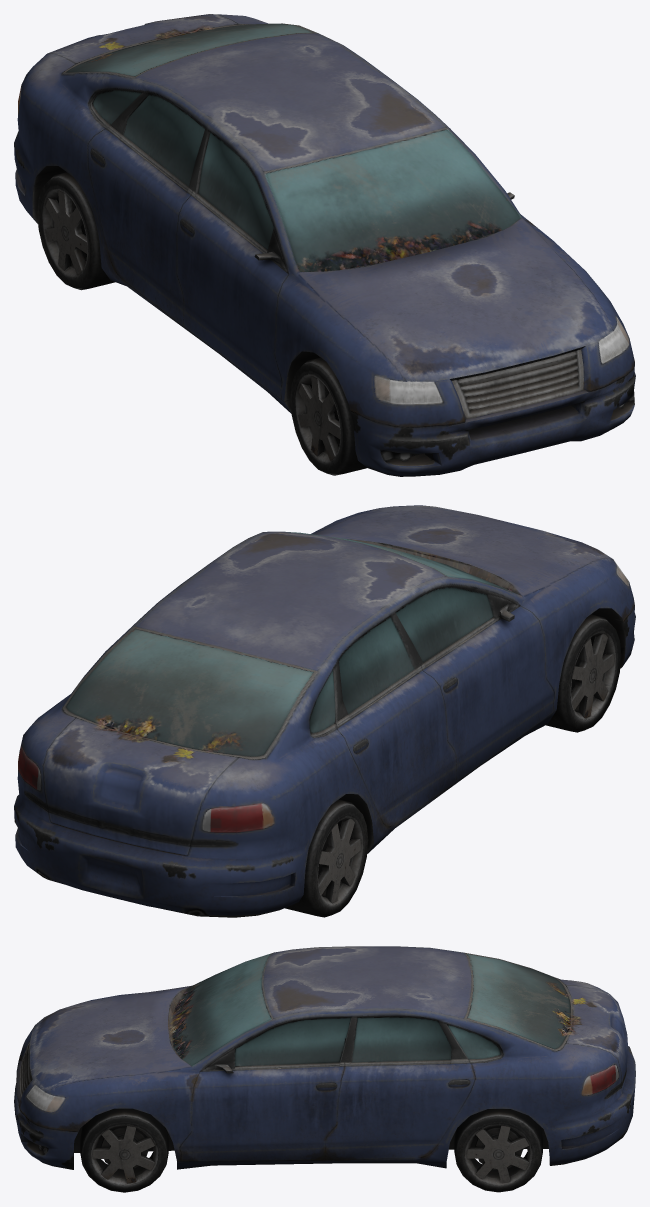
File: sedan.FBX
3 renders of one model, top to bottom at view 1: azimuth 30°, elevation 25°; view 2: azimuth 150°, elevation 25°; view 3: azimuth 270°, elevation 25°, orthographic. The views are drawn at different scales.
Visible parts, largest first — view 1: Object002; view 2: Object002; view 3: Object002.
Part boxes in pixels (left/top/right/bottom): Object002: left=14, top=14, right=635, bottom=476; Object002: left=14, top=505, right=635, bottom=917; Object002: left=14, top=946, right=635, bottom=1192.
Bounding box in the file's own units: 74.56 × 60.37 × 198.
